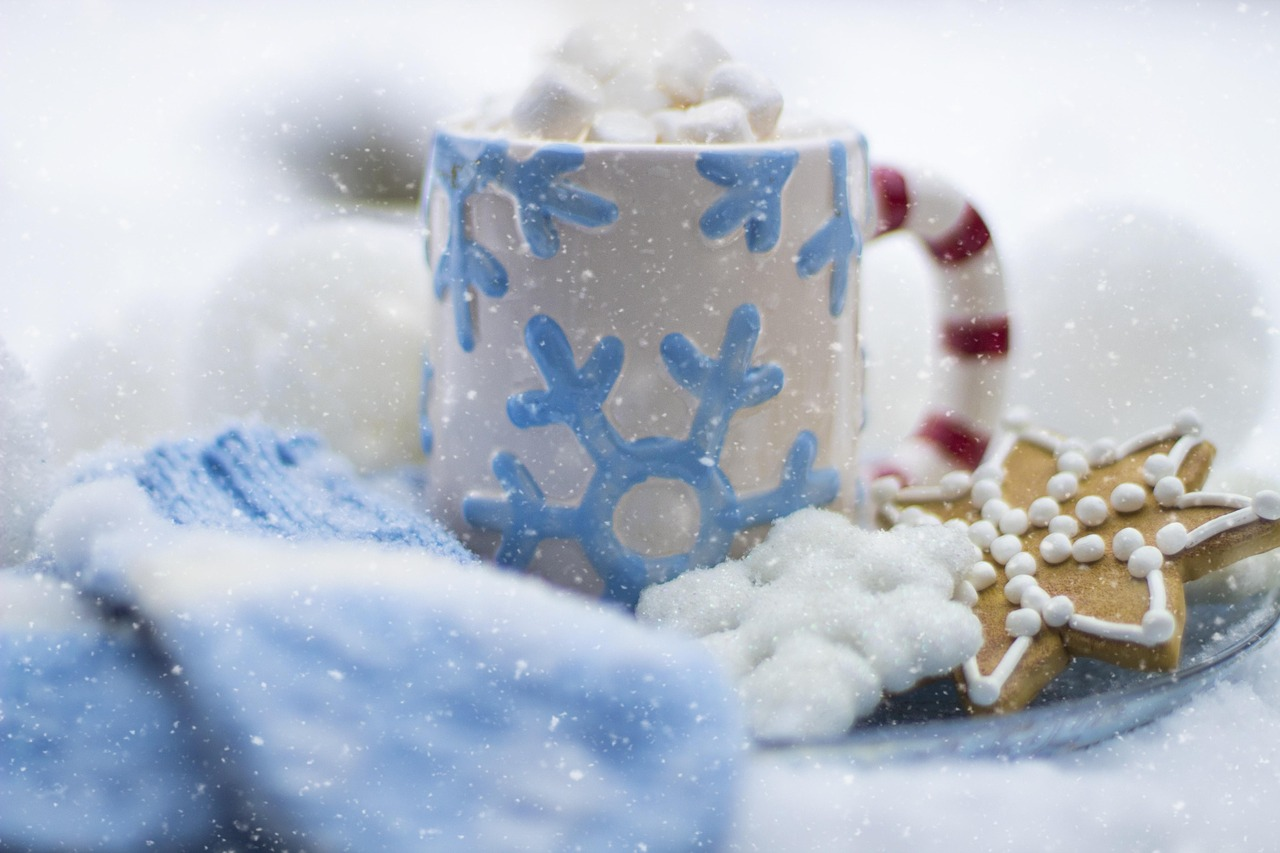mug: (359, 88, 1041, 653)
